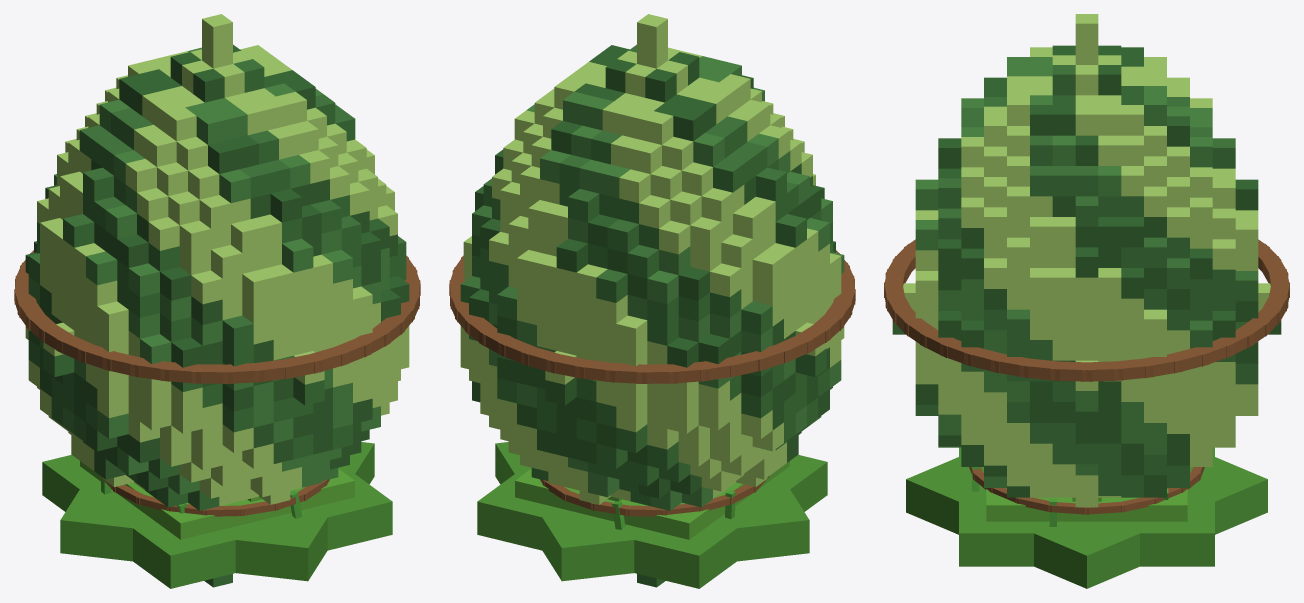
The model's file is egg_pc_bosque.glb.
3 renders of one model, left to right at view 1: azimuth 30°, elevation 25°; view 2: azimuth 150°, elevation 25°; view 3: azimuth 270°, elevation 25°, orthographic.
Visible parts, largest first — view 1: shell_geo, root_geo, egg_geo; view 2: shell_geo, root_geo, egg_geo; view 3: shell_geo, root_geo, egg_geo.
Boxes of the visible parts, left/top/right/bottom form: shell_geo: left=25, top=14, right=409, bottom=587; root_geo: left=42, top=442, right=392, bottom=588; egg_geo: left=14, top=250, right=420, bottom=383; shell_geo: left=460, top=14, right=844, bottom=587; root_geo: left=477, top=442, right=827, bottom=588; egg_geo: left=449, top=250, right=855, bottom=383; shell_geo: left=892, top=14, right=1281, bottom=507; root_geo: left=906, top=447, right=1267, bottom=588; egg_geo: left=884, top=239, right=1289, bottom=381.
Size of the model in its own units: 4.44 by 6.75 by 4.44.
